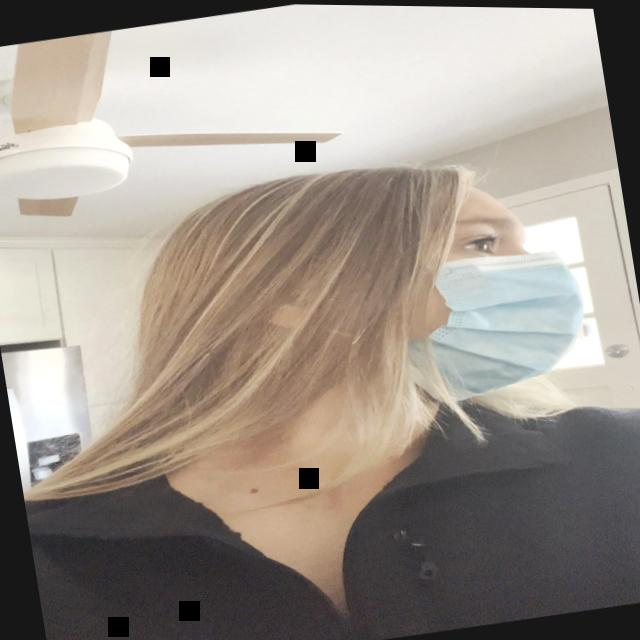Mask: (378, 153, 598, 408)
